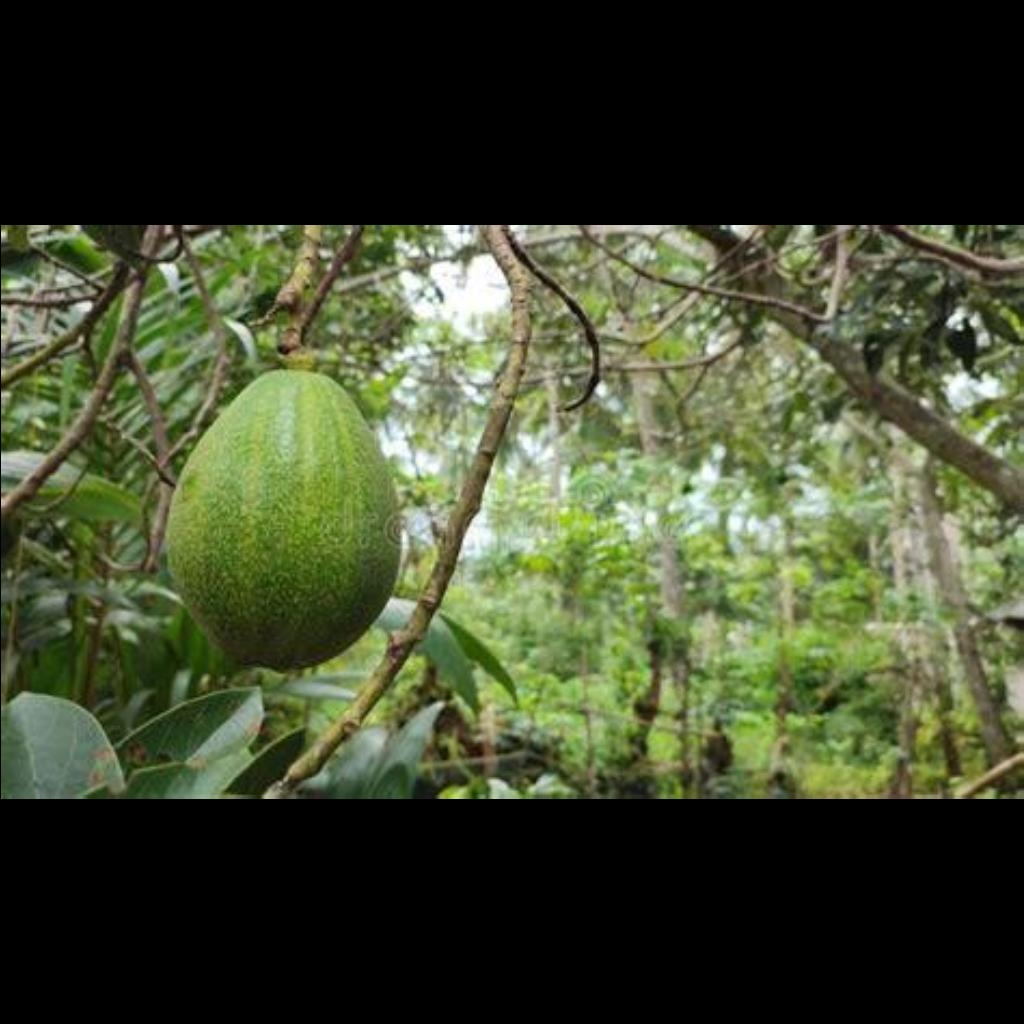fruto_sano: (160, 350, 406, 676)
